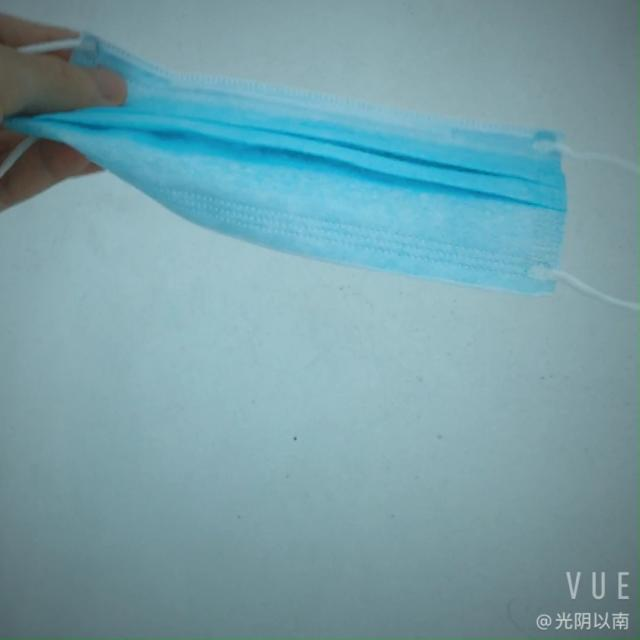face mask: (21, 55, 594, 291)
